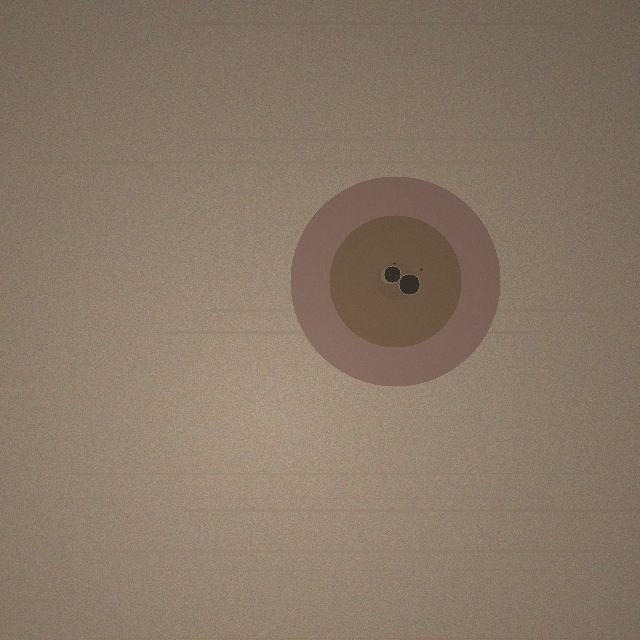shrinkage: (290, 176, 500, 386)
